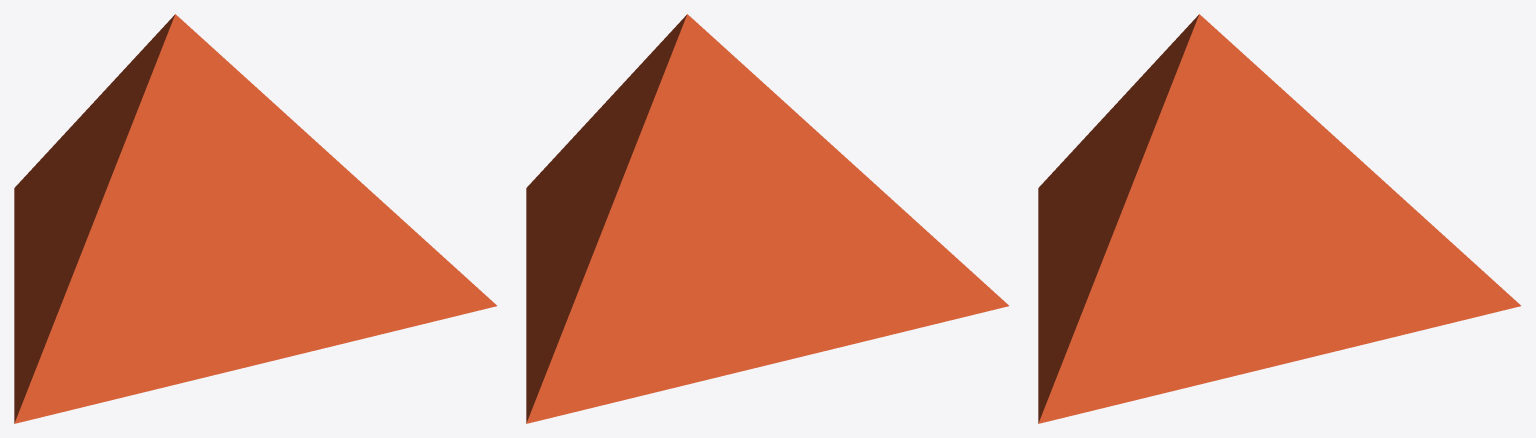
File: triangle.fbx
The picture shows the model from 3 angles, left to right: view 1: azimuth 30°, elevation 25°; view 2: azimuth 150°, elevation 25°; view 3: azimuth 270°, elevation 25°; orthographic projection.
Parts seen in each view (by area): view 1: Cone; view 2: Cone; view 3: Cone.
Part boxes in pixels (<box>): Cone: <box>14,14,496,423</box>; Cone: <box>526,14,1008,423</box>; Cone: <box>1038,14,1520,423</box>.
Bounding box in the file's own units: 346 × 200 × 300.
